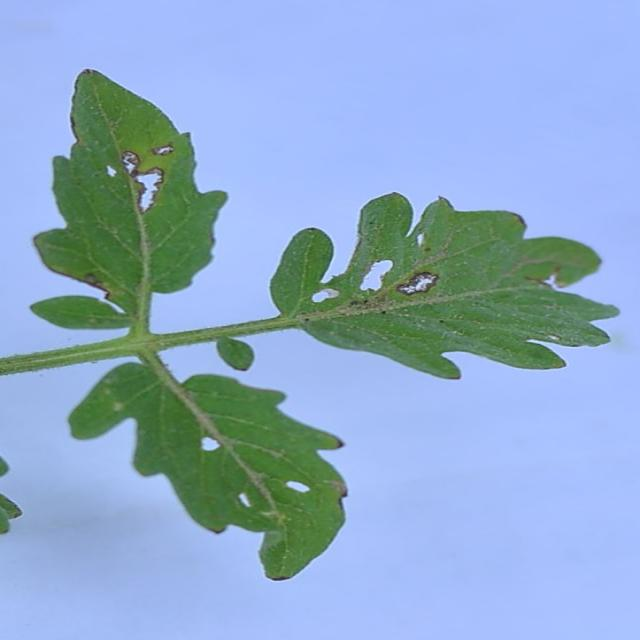infected: (300, 218, 639, 356), (168, 412, 361, 540), (91, 136, 201, 228)
